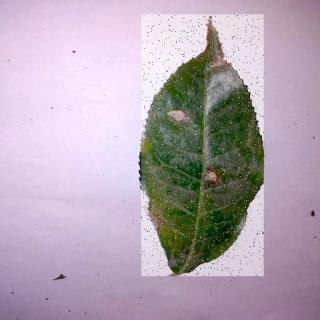Anthracnose: (142, 16, 265, 278)
